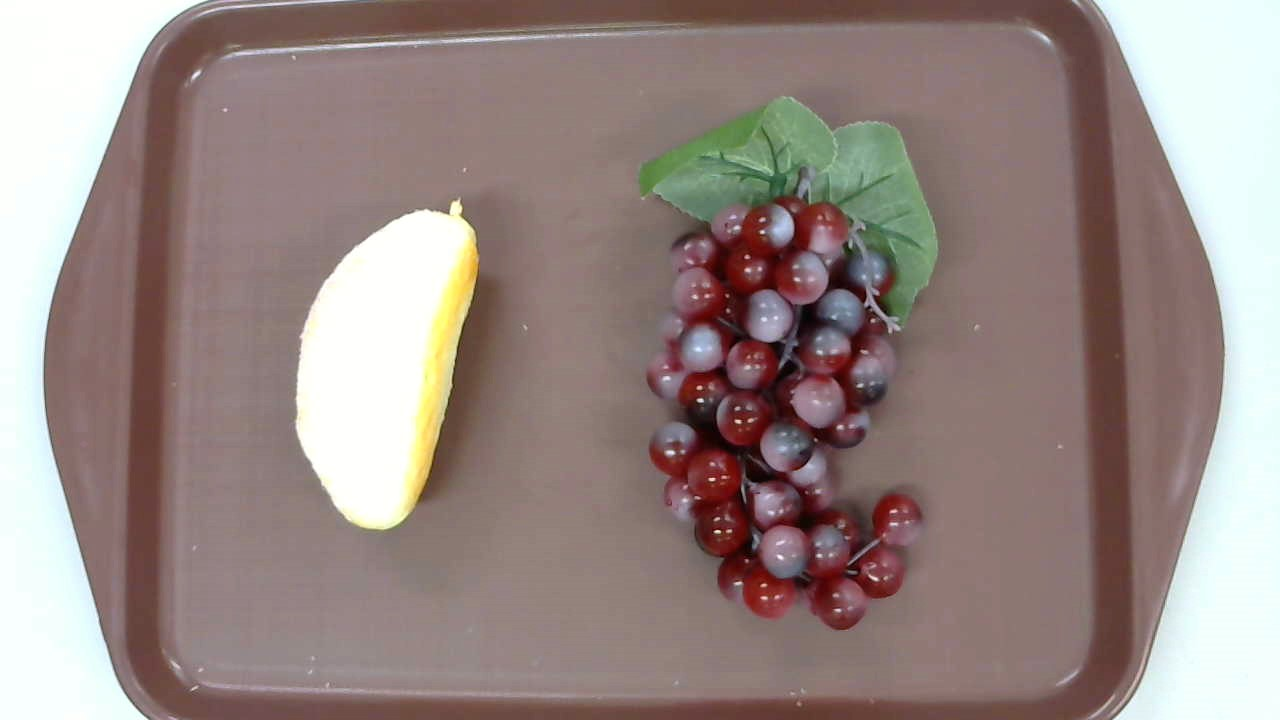coconut: (294, 197, 478, 530)
grape: (637, 96, 939, 634)
